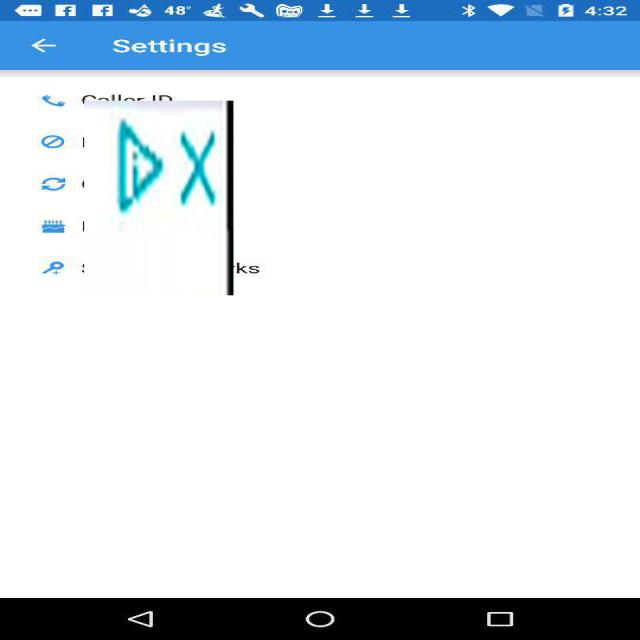sneaking: (84, 101, 234, 295)
